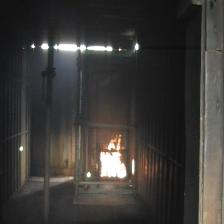fire: (97, 134, 128, 180)
